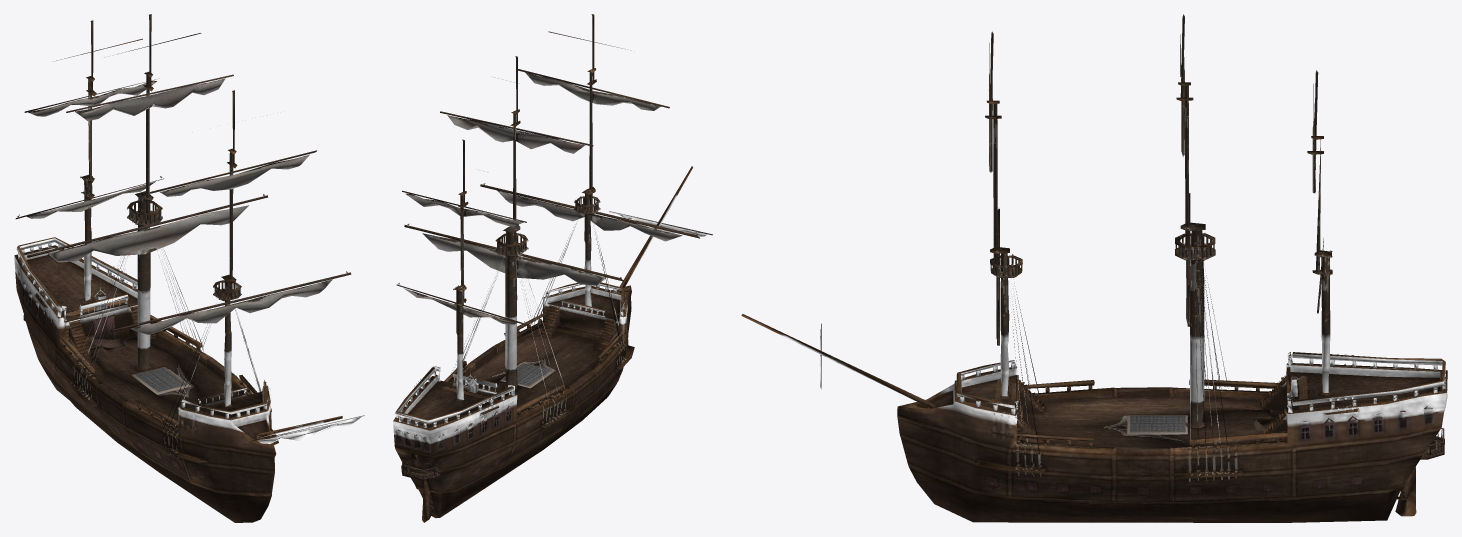
File: galleon.glb
3 views of the same model, side by side, from view 1: azimuth 30°, elevation 25°; view 2: azimuth 150°, elevation 25°; view 3: azimuth 270°, elevation 25° (orthographic). The views are drawn at different scales.
Parts seen in each view (by area): view 1: galleon; view 2: galleon; view 3: galleon.
Part boxes in pixels (x1,y1,x2,y2): galleon: [14, 14, 364, 522]; galleon: [393, 14, 712, 522]; galleon: [741, 14, 1447, 522].
Size of the model in its own units: 18 by 31.52 by 40.
Materials: 2 (2 with a texture image).
